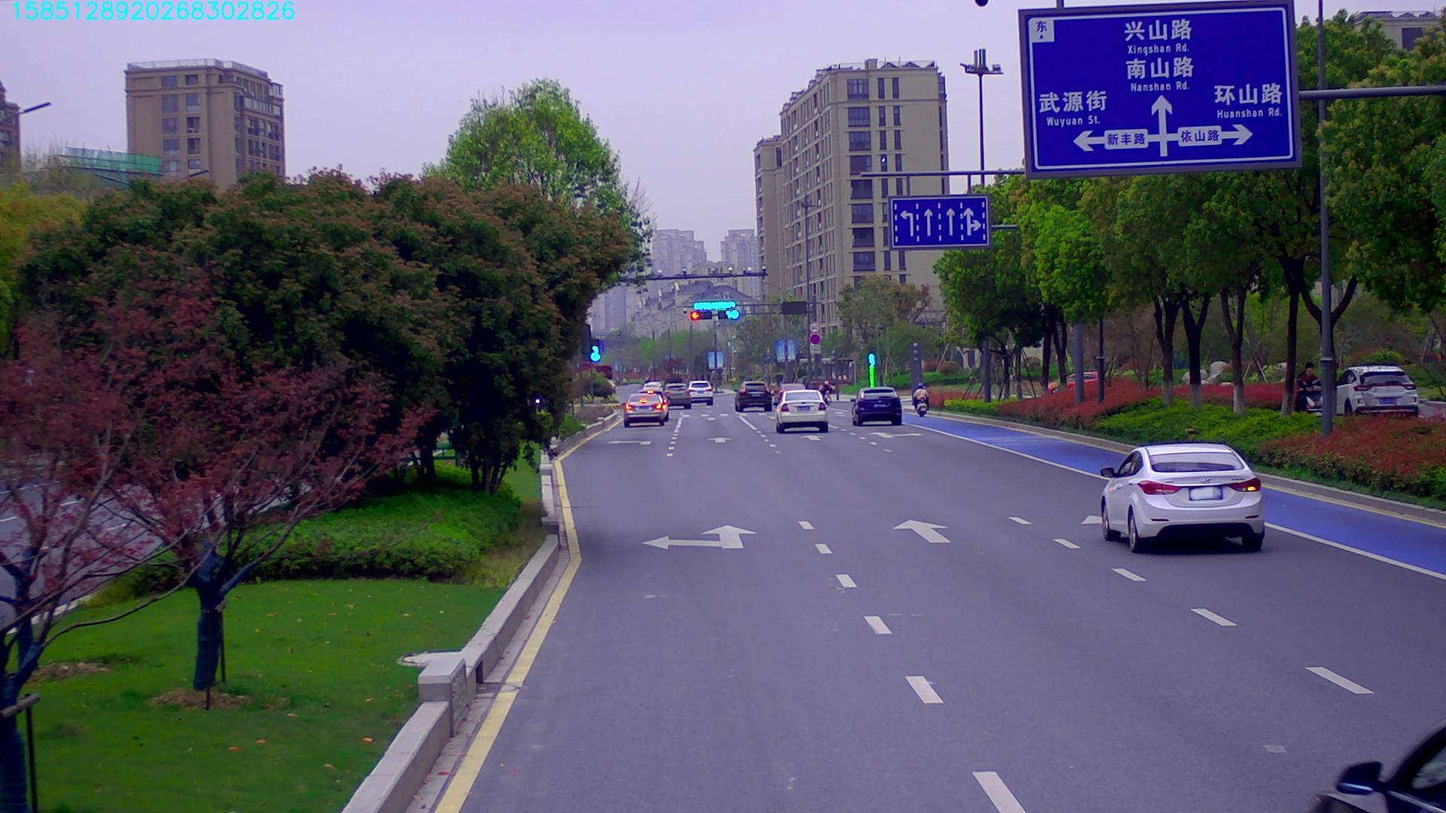green: (715, 311, 737, 317)
red: (689, 310, 713, 321)
wait_on: (689, 301, 736, 308)
